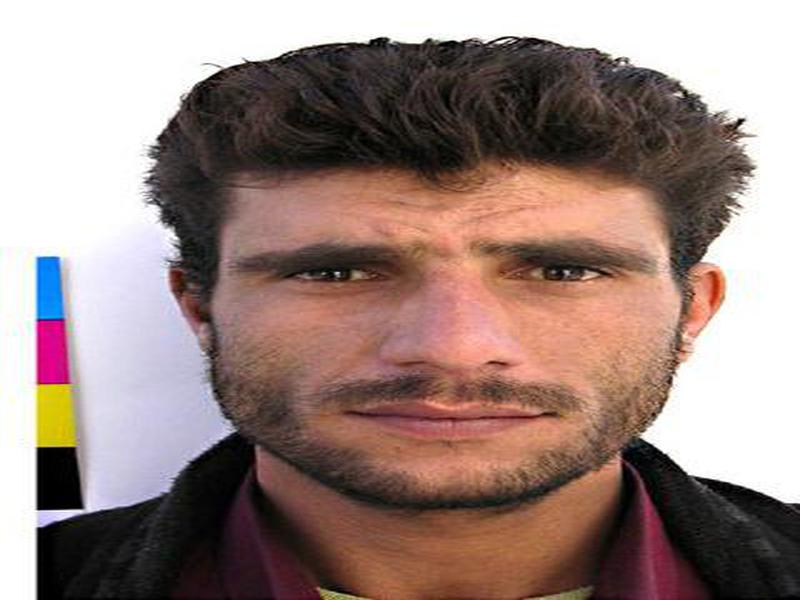without_mask: (214, 182, 683, 519)
